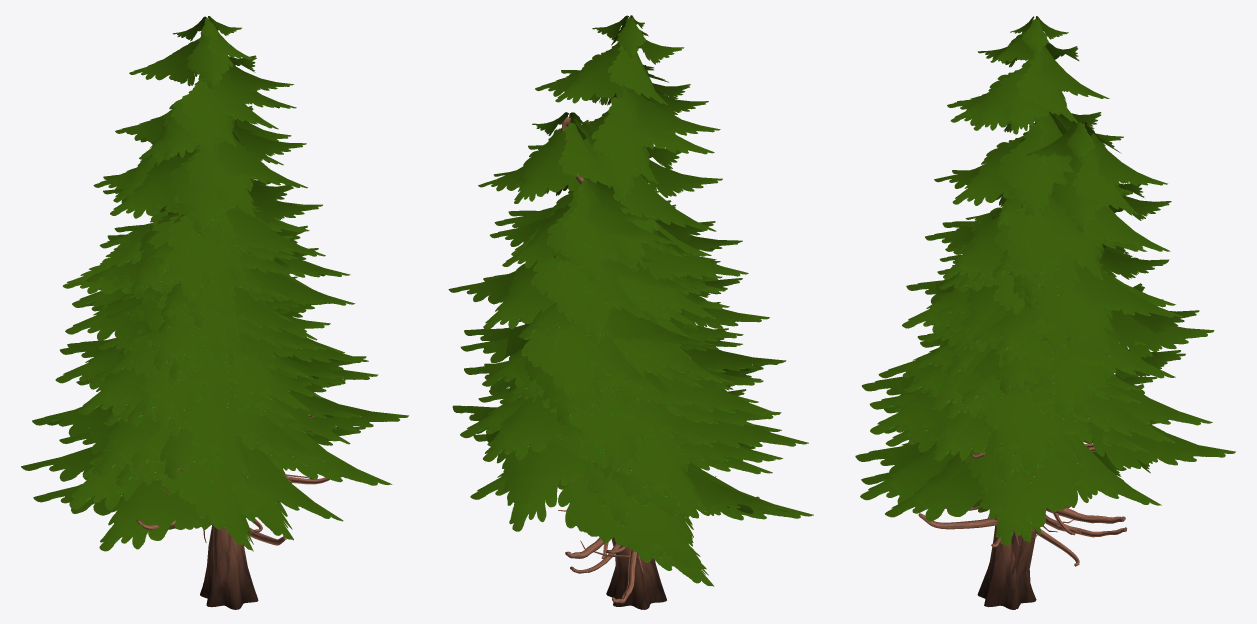
Rendered from MegaPine.glb.
3 views of the same model, side by side, from view 1: azimuth 30°, elevation 25°; view 2: azimuth 150°, elevation 25°; view 3: azimuth 270°, elevation 25° (orthographic). The views are drawn at different scales.
Parts seen in each view (by area): view 1: Pine_4, Pine_5, Pine_2, Pine_1, Pine_3; view 2: Pine_5, Pine_4, Pine_2, Pine_1, Pine_3; view 3: Pine_4, Pine_5, Pine_2, Pine_1, Pine_3.
Boxes of the visible parts, box(x1,y1,x2,y2) form: Pine_4: box(32, 16, 368, 609); Pine_5: box(21, 90, 408, 609); Pine_2: box(33, 206, 365, 551); Pine_1: box(59, 205, 345, 502); Pine_3: box(76, 212, 326, 532); Pine_5: box(448, 112, 791, 609); Pine_4: box(460, 15, 808, 609); Pine_2: box(470, 179, 813, 586); Pine_1: box(487, 191, 782, 558); Pine_3: box(505, 226, 758, 573); Pine_4: box(861, 16, 1185, 609); Pine_5: box(861, 119, 1235, 608); Pine_2: box(855, 203, 1161, 542); Pine_1: box(884, 198, 1157, 534); Pine_3: box(905, 246, 1145, 566).
Size of the model in its own units: 6.42 by 10.24 by 6.31.
Materials: 2 (2 with a texture image).
